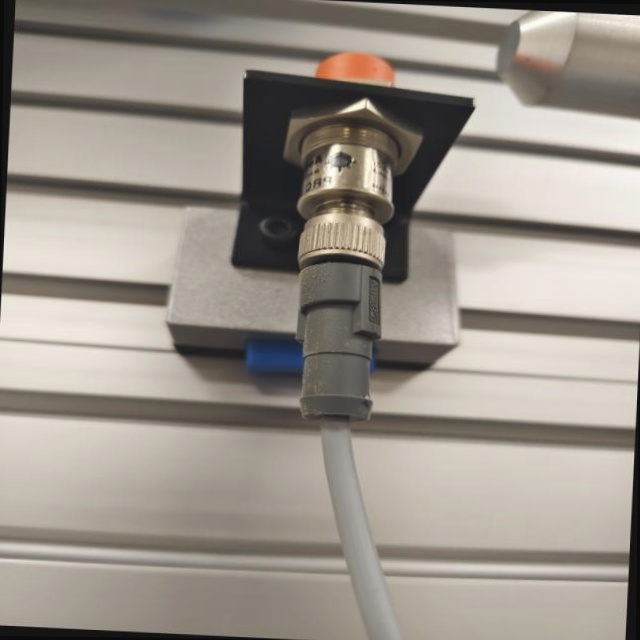inductive sensor: (146, 30, 495, 432)
